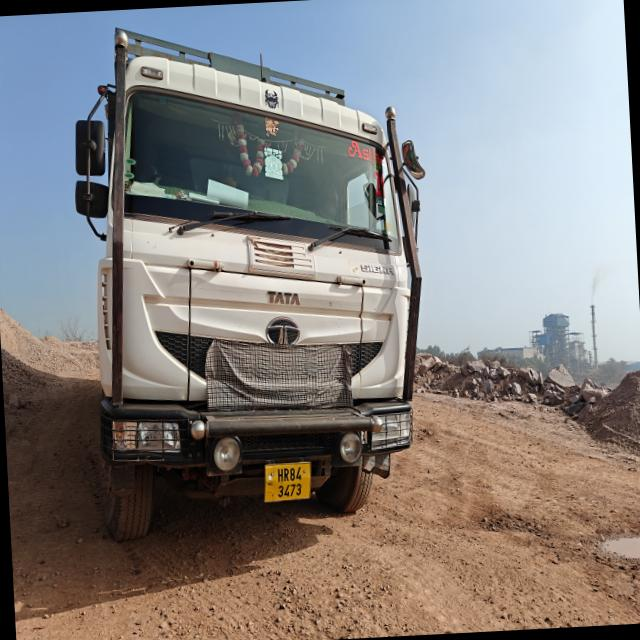license_plate: (265, 463, 311, 502)
